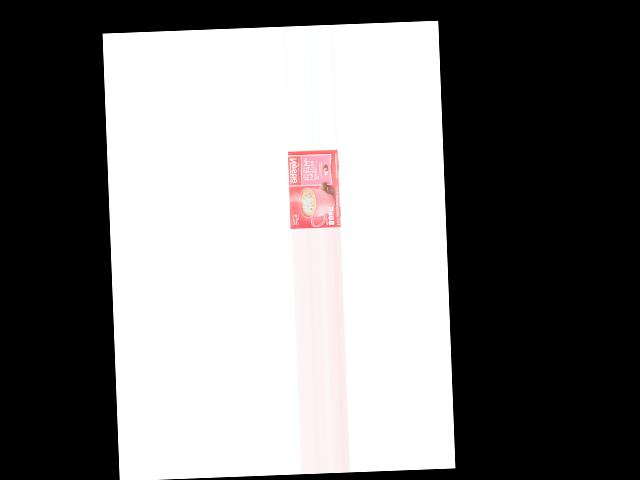chocolate: (289, 151, 344, 229)
